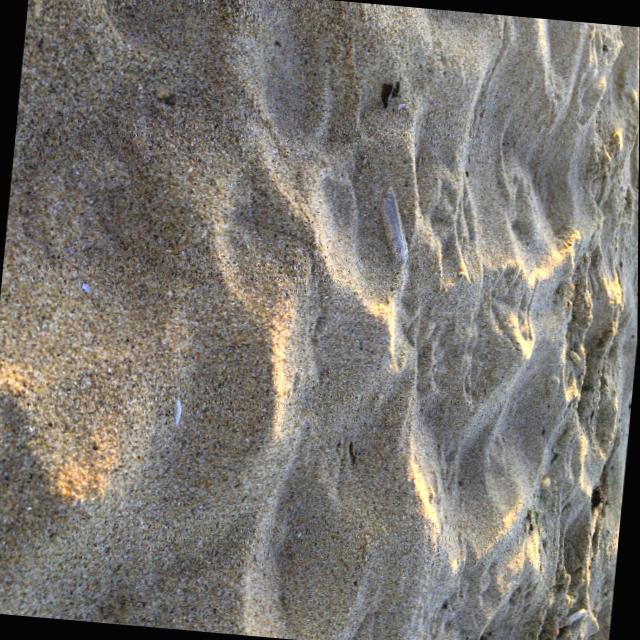Plastic: (367, 180, 420, 284)
